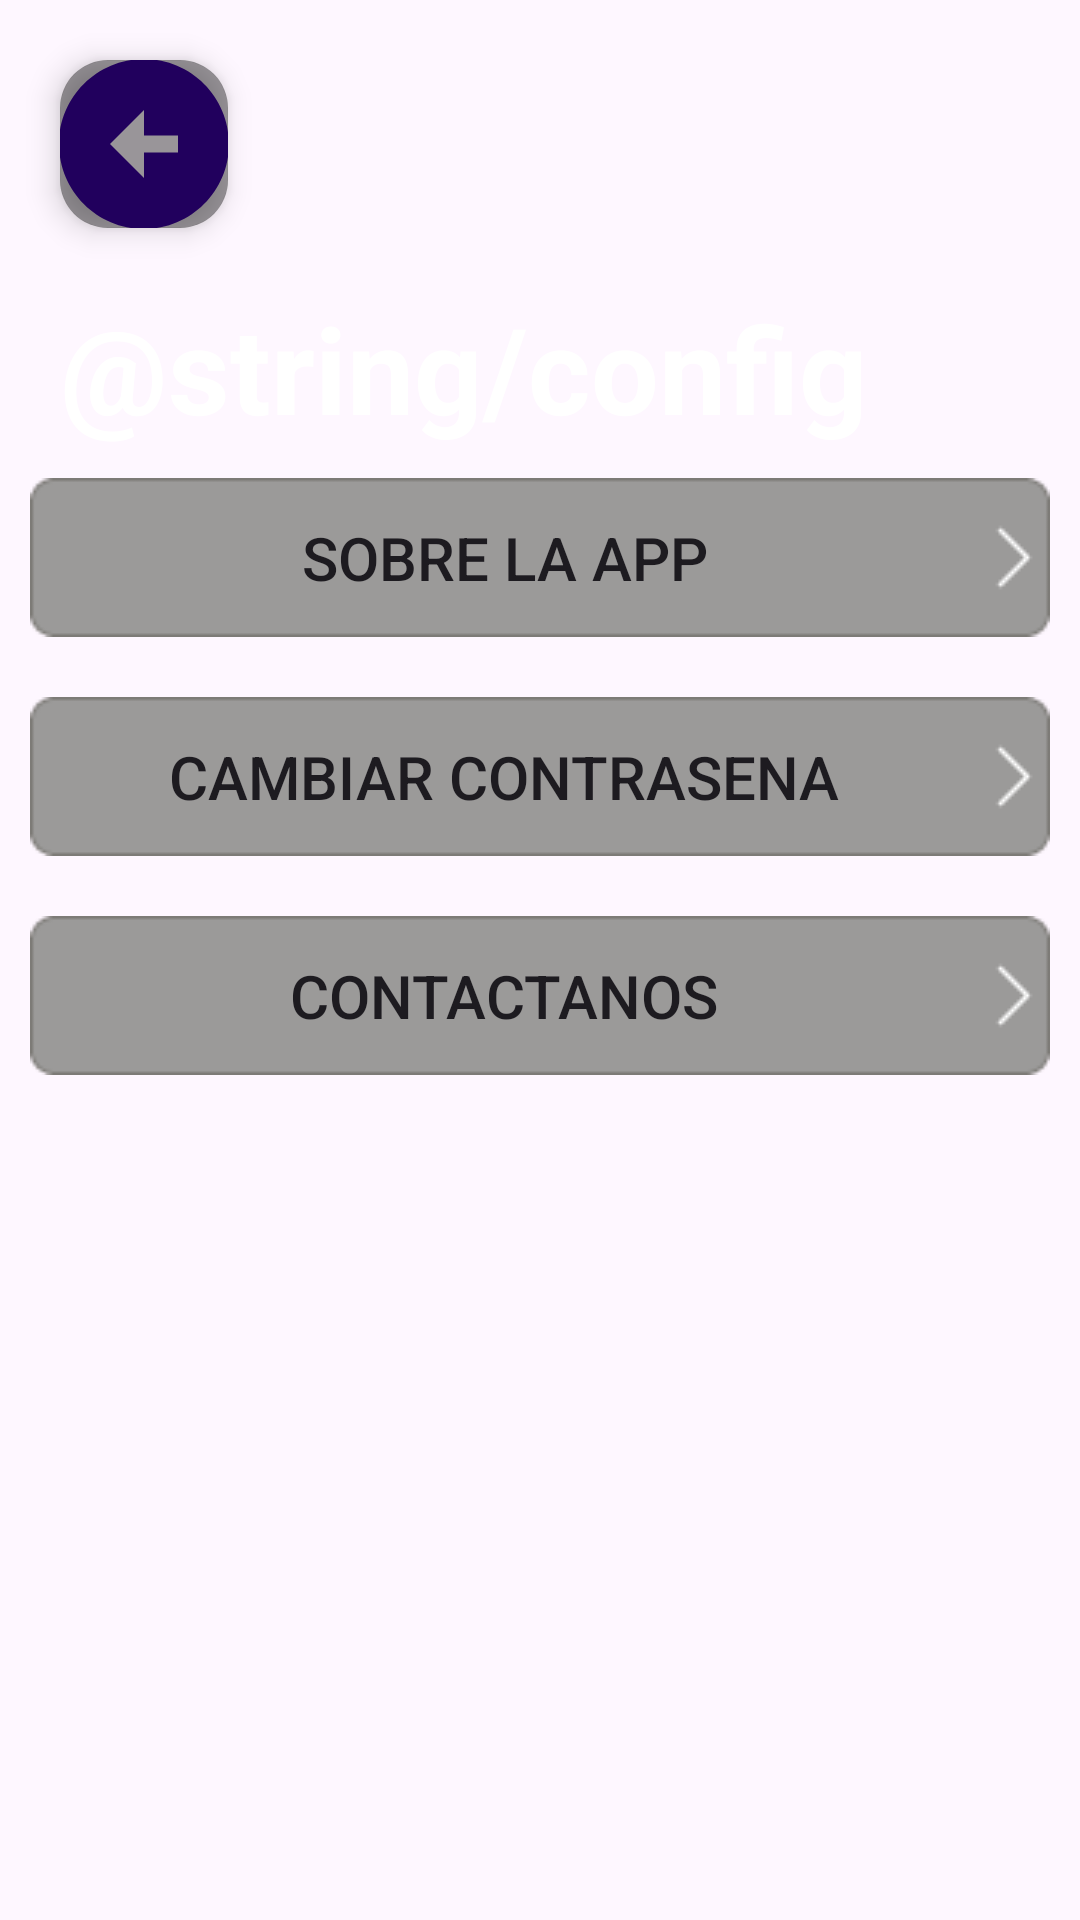

Named icons in this screenshot (1080px×1920px) and their bounding boxes, (x1, y1, x2, y2):
arrow return: (60, 60, 228, 228)
